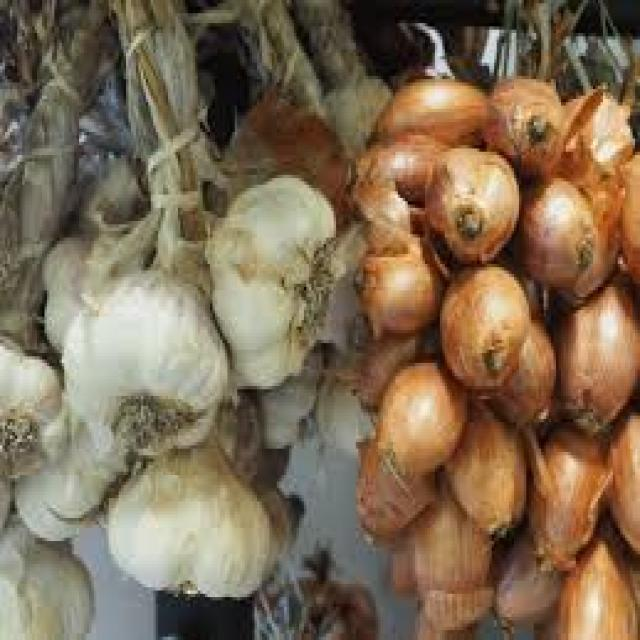organic waste: (0, 0, 114, 360), (57, 264, 225, 455), (104, 426, 292, 594), (106, 0, 222, 271), (203, 168, 336, 386), (196, 0, 390, 145), (40, 202, 158, 356), (10, 386, 131, 534), (391, 488, 499, 637), (228, 89, 354, 215), (0, 466, 94, 634), (469, 251, 558, 422), (556, 268, 638, 436), (526, 416, 616, 568), (435, 258, 529, 390), (440, 396, 526, 534), (373, 353, 465, 472), (423, 138, 514, 258), (551, 521, 638, 637), (0, 330, 67, 475), (351, 231, 445, 330), (512, 172, 590, 287), (353, 435, 438, 538), (474, 76, 558, 175), (558, 168, 618, 304), (368, 72, 484, 142), (254, 577, 376, 637), (492, 524, 561, 627), (356, 132, 457, 201), (559, 86, 625, 191), (598, 399, 638, 554), (69, 155, 151, 228), (353, 330, 420, 402), (356, 181, 412, 251), (348, 185, 430, 231), (618, 142, 638, 284)
